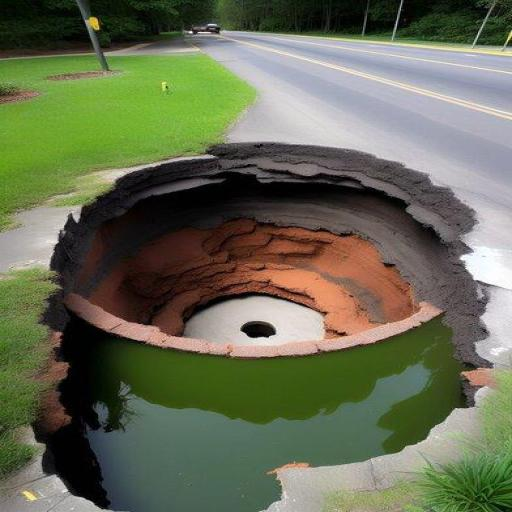Concentric_Crack: (36, 143, 488, 512)
